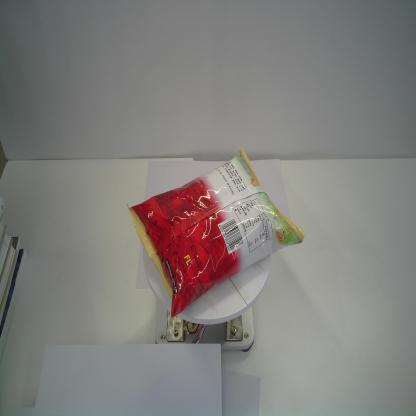Puffed Food: (124, 144, 309, 328)
